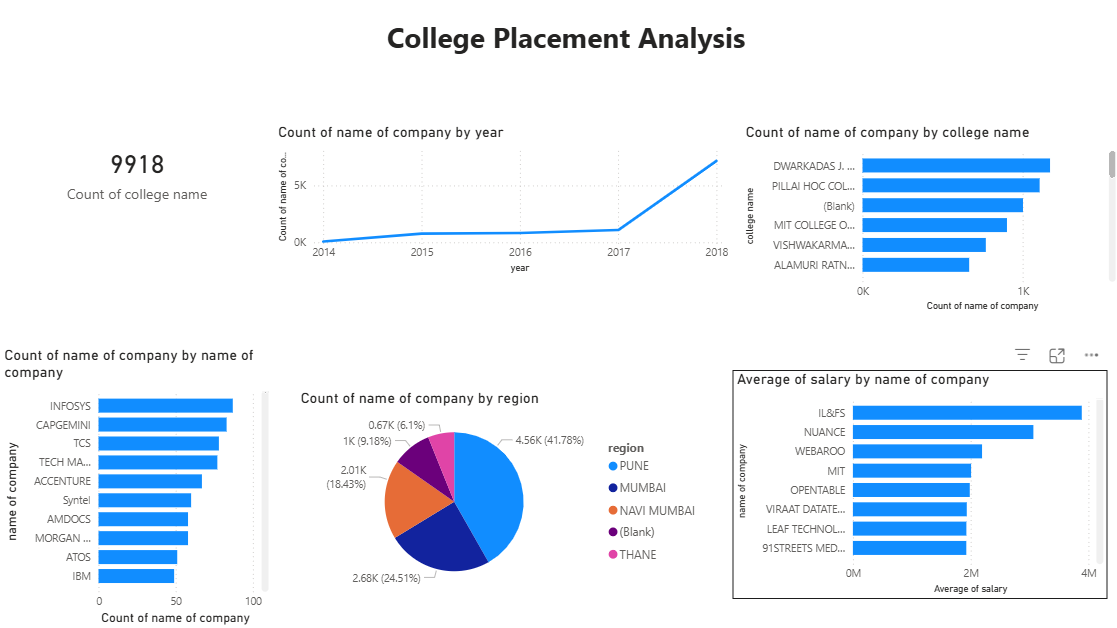

The dashboard page shown, as its layout file describes it:
{"tool":"powerbi","page":{"name":"Page 1","canvas":[1280,720],"ordinal":0},"visuals":[{"type":"card","fields":{"Values":["CountNonNull(Sheet1.college name)"]},"box":[17.1,57,279.4,279.4],"z":0},{"type":"clusteredBarChart","fields":{"Category":["Sheet1.name of company"],"Y":["CountNonNull(Sheet1.name of company)"]},"box":[0,396.3,312.2,323.6],"z":1000},{"type":"lineChart","fields":{"Category":["Sheet1.year"],"Y":["CountNonNull(Sheet1.name of company)"]},"box":[312.9,140,524.2,177],"z":1001},{"type":"pieChart","fields":{"Category":["Sheet1.region"],"Y":["CountNonNull(Sheet1.name of company)"]},"box":[339.2,444.7,470.4,239.5],"z":1002},{"type":"clusteredBarChart","fields":{"Category":["Sheet1.college name"],"Y":["CountNonNull(Sheet1.name of company)"]},"box":[846.7,139.7,433.3,220.9],"z":1003},{"type":"clusteredBarChart","fields":{"Category":["Sheet1.name of company"],"Y":["Avg(Sheet1.salary)"]},"box":[836.7,423.3,429,260.8],"z":1004}]}

Visuals, with their boxes in screenshot pixels (x1, y1, x2, y2), scaled from the page's 1280x720 canvas onto the 1117x628 screenshot:
card - CountNonNull(Sheet1.college name): pyautogui.locateOnScreen(15, 50, 259, 293)
clusteredBarChart - Sheet1.name of company x CountNonNull(Sheet1.name of company): pyautogui.locateOnScreen(0, 346, 272, 627)
lineChart - Sheet1.year x CountNonNull(Sheet1.name of company): pyautogui.locateOnScreen(273, 122, 731, 276)
pieChart - Sheet1.region x CountNonNull(Sheet1.name of company): pyautogui.locateOnScreen(296, 388, 707, 597)
clusteredBarChart - Sheet1.college name x CountNonNull(Sheet1.name of company): pyautogui.locateOnScreen(739, 122, 1116, 315)
clusteredBarChart - Sheet1.name of company x Avg(Sheet1.salary): pyautogui.locateOnScreen(730, 369, 1105, 597)
